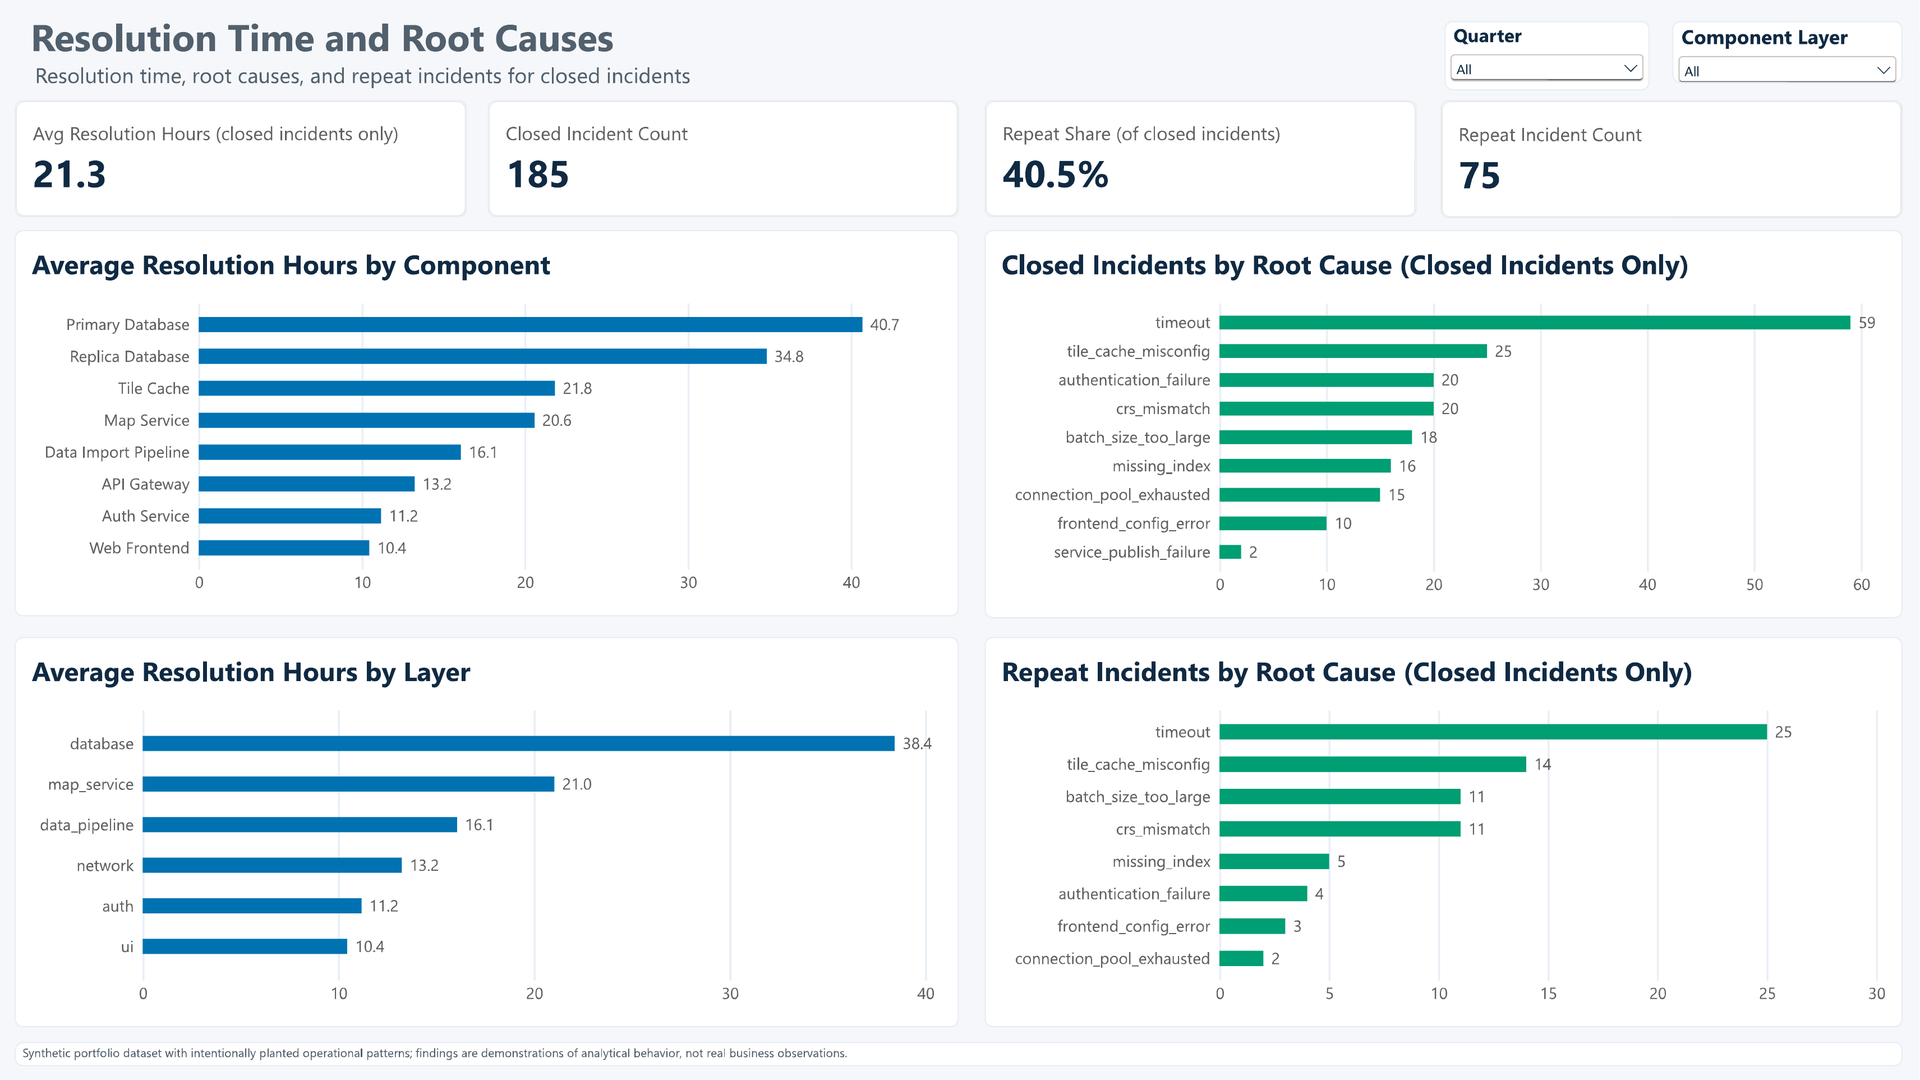

The page's visual inventory and layout, read from the dashboard file:
{"tool":"powerbi","page":{"name":"Resolution & root causes","canvas":[1920,1080],"ordinal":1},"visuals":[{"type":"cardVisual","fields":{"Data":["_Measures.Closed Incident Count"]},"box":[488.1,100.2,471,117.2],"z":0},{"type":"cardVisual","title":"Repeat Share (of closed incidents)","fields":{"Data":["_Measures.Repeat Share"]},"box":[984.7,100.2,432.7,117.2],"z":1000},{"type":"cardVisual","title":"Avg Resolution Hours (closed incidents only)","fields":{"Data":["_Measures.Avg Resolution Hours"]},"box":[14.9,100.2,451.9,117.2],"z":2000},{"type":"cardVisual","fields":{"Data":["_Measures.Repeat Incident Count"]},"box":[1440.9,100,462.5,118],"z":3000},{"type":"barChart","title":"Average Resolution Hours by Component","fields":{"Category":["dim_component.component_name"],"Y":["_Measures.Avg Resolution Hours"]},"box":[14.9,230,944.2,385.8],"z":4000},{"type":"slicer","fields":{"Values":["dim_date.quarter"]},"box":[1445.1,21.3,204.6,68.2],"z":6000},{"type":"slicer","fields":{"Values":["dim_component.layer"]},"box":[1673.2,21.3,230.2,61.8],"z":7000},{"type":"barChart","title":"Average Resolution Hours by Layer","fields":{"Category":["dim_component.layer"],"Y":["_Measures.Avg Resolution Hours"]},"box":[14.9,637.3,944.2,390.1],"z":9000},{"type":"barChart","title":"Closed Incidents by Root Cause (Closed Incidents Only)","fields":{"Category":["fact_incidents.root_cause"],"Y":["_Measures.Closed Incident Count"]},"box":[984.7,230,918.7,387.9],"z":10000},{"type":"barChart","title":"Repeat Incidents by Root Cause (Closed Incidents Only)","fields":{"Category":["fact_incidents.root_cause"],"Y":["_Measures.Repeat Incident Count"]},"box":[984.7,637.3,918.7,390.1],"z":11000},{"type":"textbox","box":[0,11,716.2,83.1],"z":11001},{"type":"textbox","box":[14.9,1042.3,1888.5,23.4],"z":11002}]}

Visuals, with their boxes in screenshot pixels (x1, y1, x2, y2), scaled from the page's 1920x1080 canvas onto the 1920x1080 screenshot:
cardVisual - _Measures.Closed Incident Count: {"left": 488, "top": 100, "right": 959, "bottom": 217}
"Repeat Share (of closed incidents)" cardVisual: {"left": 985, "top": 100, "right": 1417, "bottom": 217}
"Avg Resolution Hours (closed incidents only)" cardVisual: {"left": 15, "top": 100, "right": 467, "bottom": 217}
cardVisual - _Measures.Repeat Incident Count: {"left": 1441, "top": 100, "right": 1903, "bottom": 218}
"Average Resolution Hours by Component" barChart: {"left": 15, "top": 230, "right": 959, "bottom": 616}
slicer - dim_date.quarter: {"left": 1445, "top": 21, "right": 1650, "bottom": 90}
slicer - dim_component.layer: {"left": 1673, "top": 21, "right": 1903, "bottom": 83}
"Average Resolution Hours by Layer" barChart: {"left": 15, "top": 637, "right": 959, "bottom": 1027}
"Closed Incidents by Root Cause (Closed Incidents Only)" barChart: {"left": 985, "top": 230, "right": 1903, "bottom": 618}
"Repeat Incidents by Root Cause (Closed Incidents Only)" barChart: {"left": 985, "top": 637, "right": 1903, "bottom": 1027}
textbox: {"left": 0, "top": 11, "right": 716, "bottom": 94}
textbox: {"left": 15, "top": 1042, "right": 1903, "bottom": 1066}
